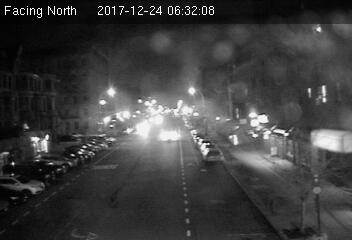car: (200, 150, 227, 166)
